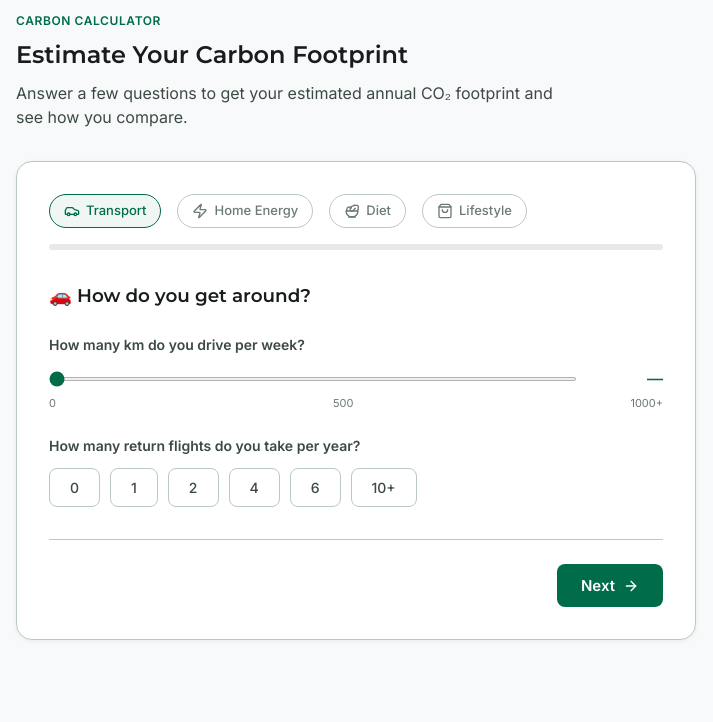
Test: Calculator page UI › shows a validation error when Next is clicked without answering
What coordinates should you click on to do the following:
click the button "Next"
I would click on:
 (610, 586)
Its box is [557,564,663,607].
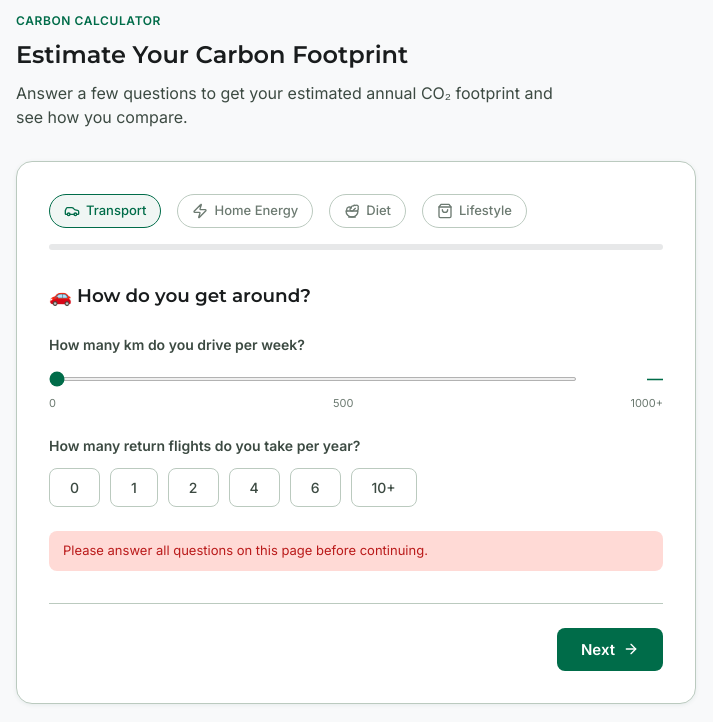
expect the text "Please answer all questions on this page before continuing." is shown: met, box [49,531,663,570]
